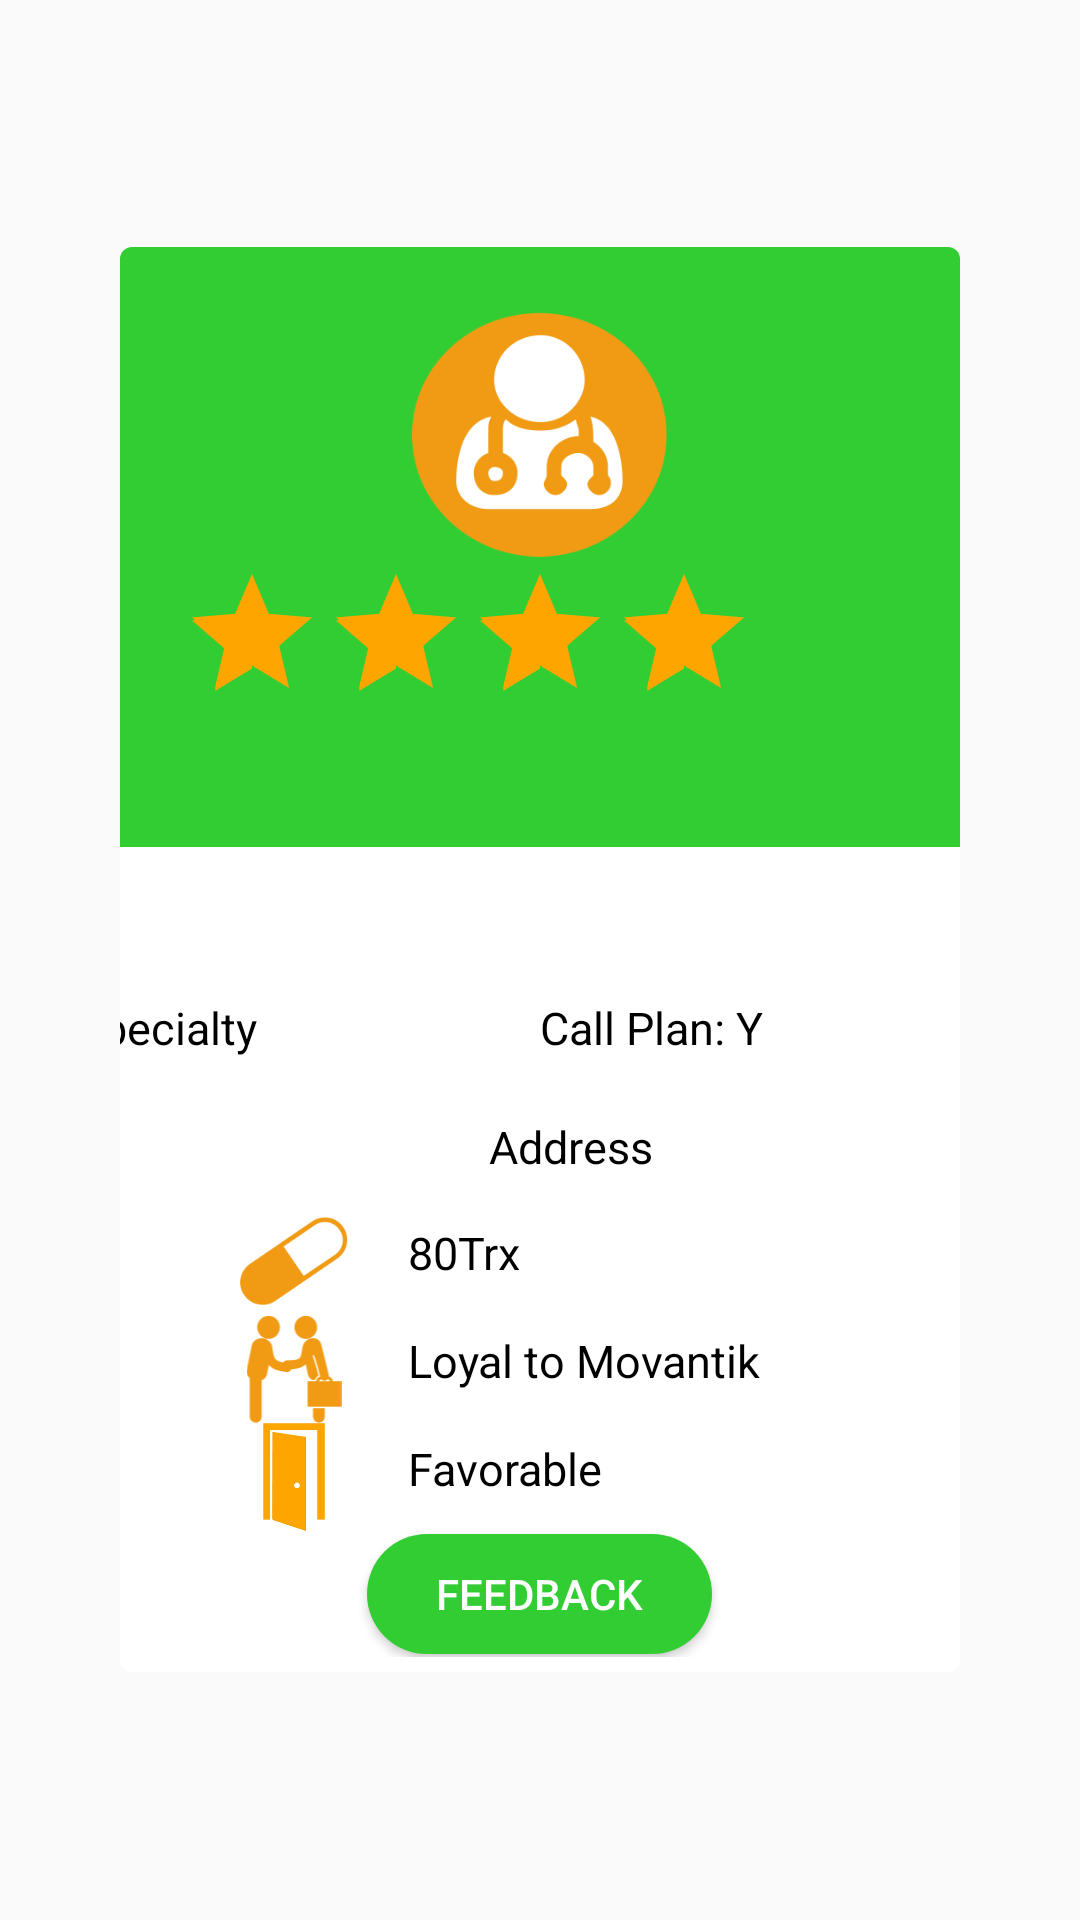

Screen size 1080*1920. Icon name, then its center in pixels as point (x, y):
door: point (289, 1481)
pill: point (294, 1261)
